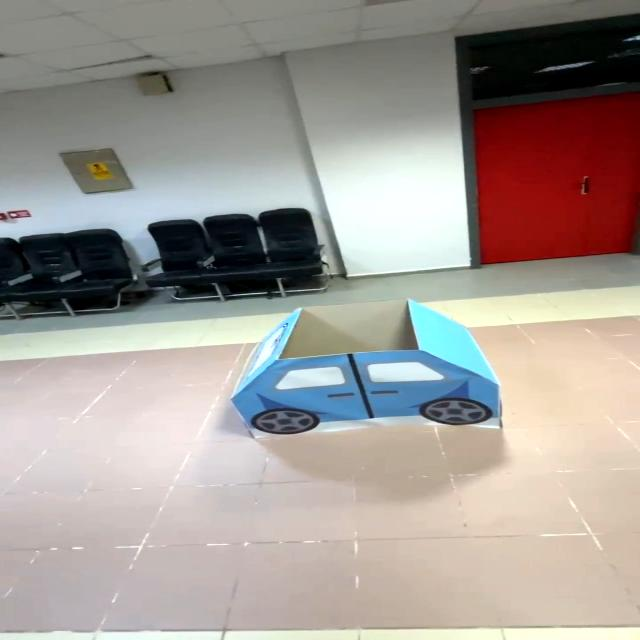blue_car: (215, 286, 522, 467)
